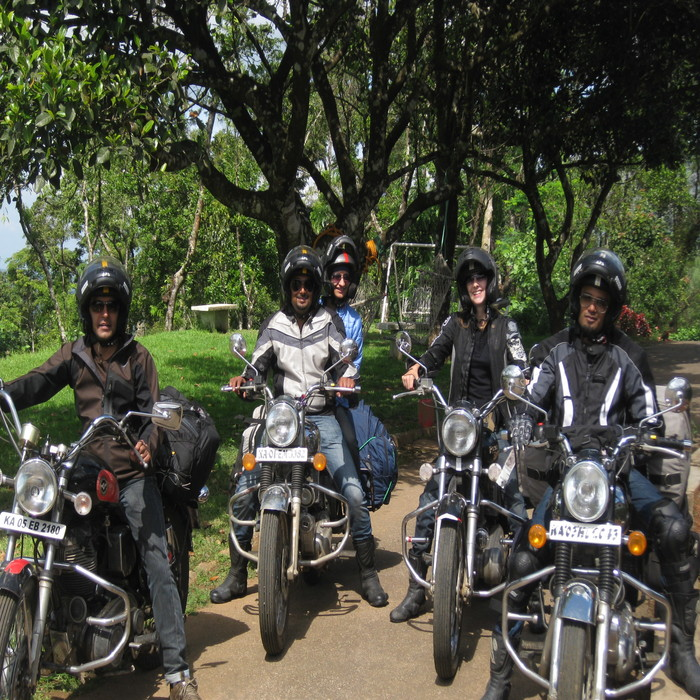h: (75, 253, 134, 347), (569, 247, 628, 325), (453, 245, 501, 315), (278, 244, 324, 311), (326, 234, 362, 301)
n: (547, 517, 624, 549), (1, 510, 67, 545), (254, 446, 310, 465)
